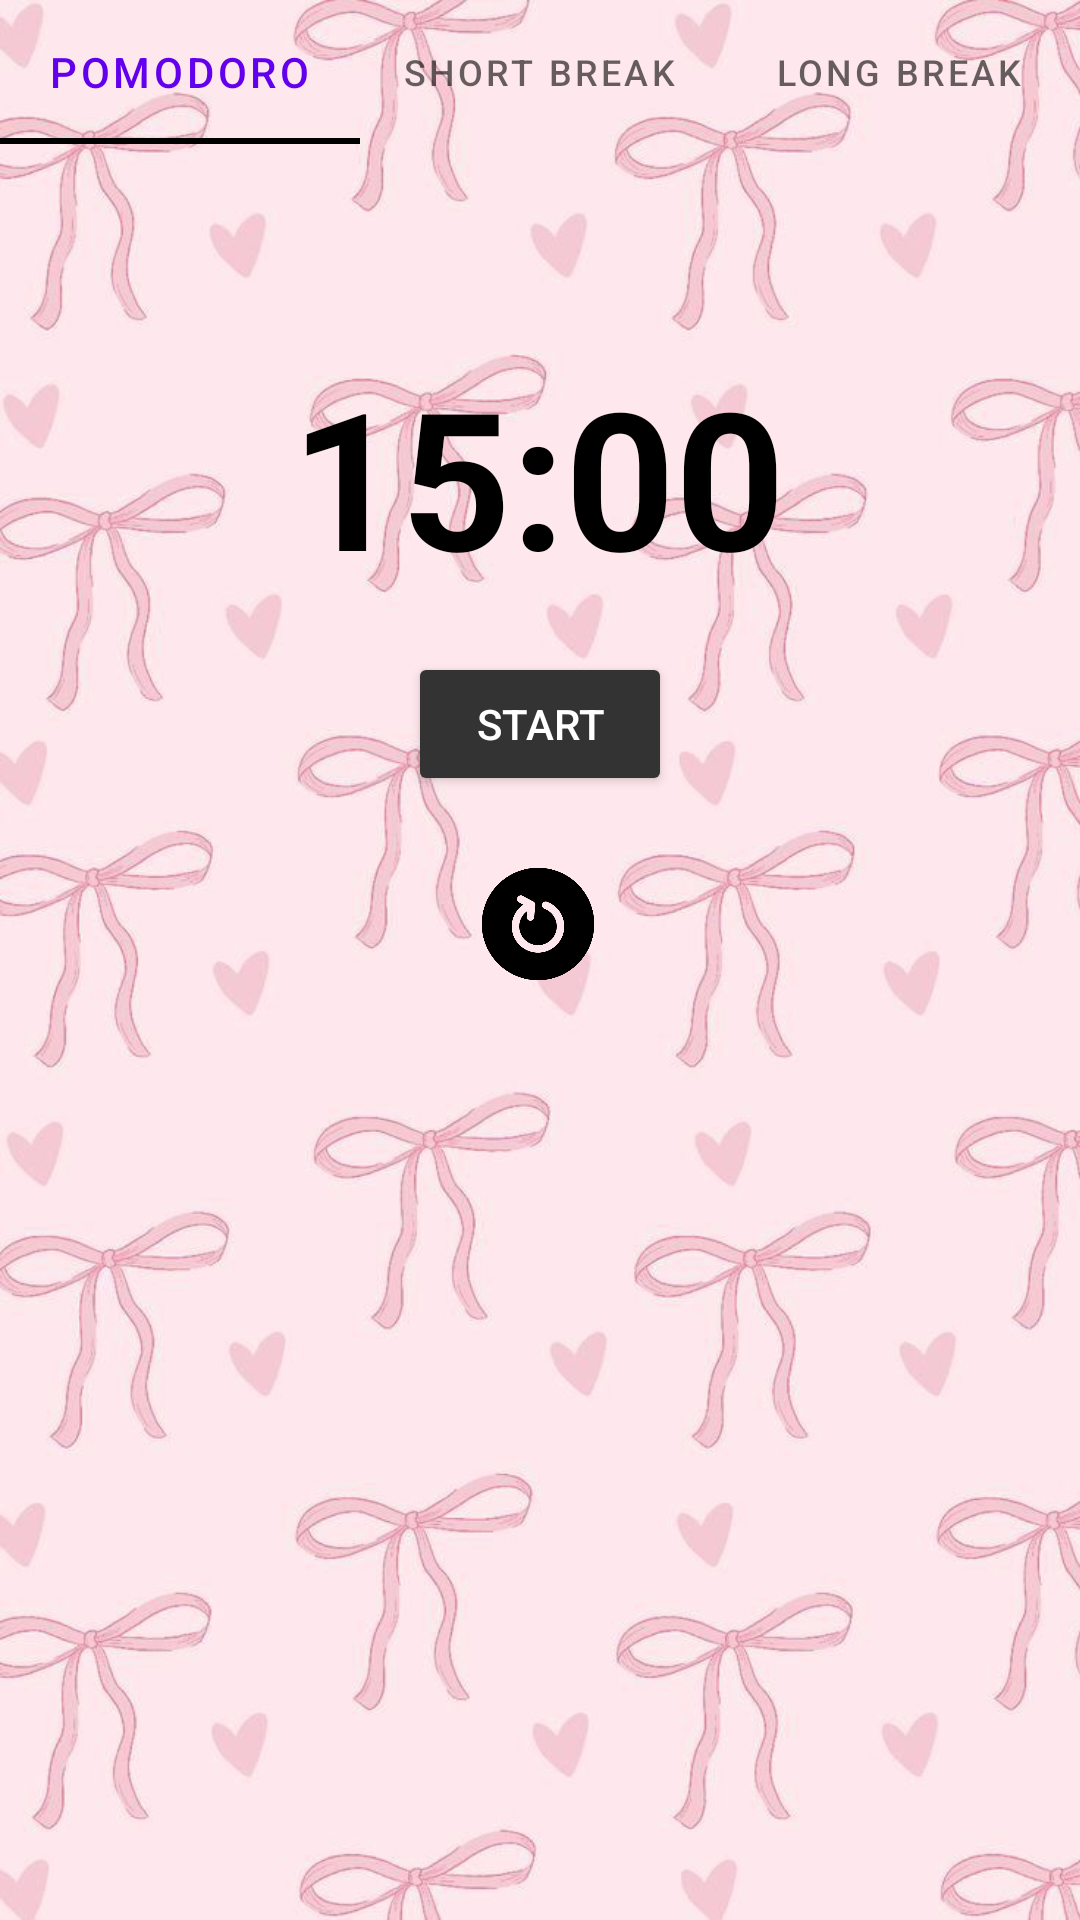

Locate icon controls on the screen. Image size 1080×1920, boxes as bbox=[x1, y1, x2, y2].
Reset the timer: bbox=[454, 840, 622, 1008]
